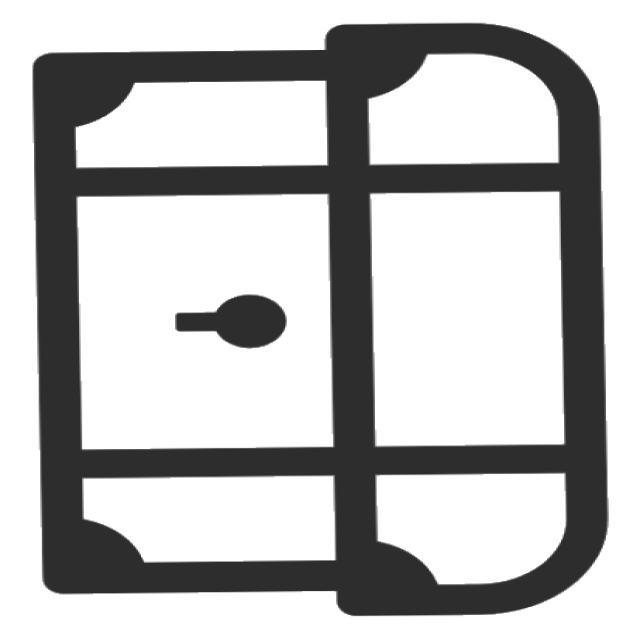treasure_box: (29, 21, 618, 627)
